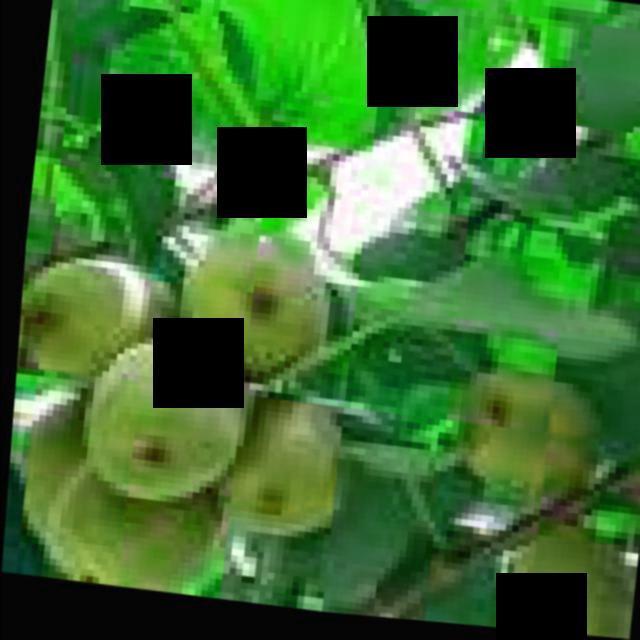kiwi: (75, 337, 264, 529), (42, 442, 254, 604), (171, 225, 340, 401), (442, 363, 616, 527), (15, 253, 182, 410), (213, 377, 357, 557), (502, 515, 635, 640)
